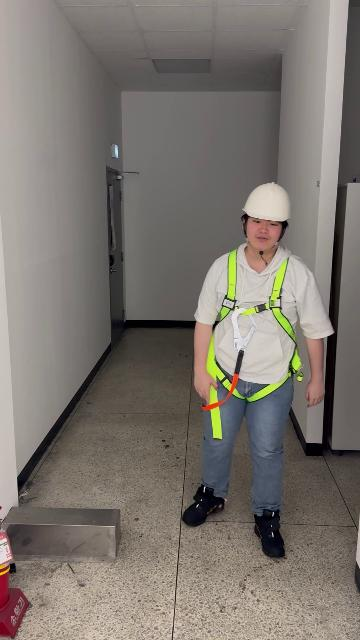helmet_worn: (240, 180, 293, 222)
shoe_worn: (181, 484, 225, 526), (253, 510, 285, 557)
vest_worn: (201, 251, 302, 432)
